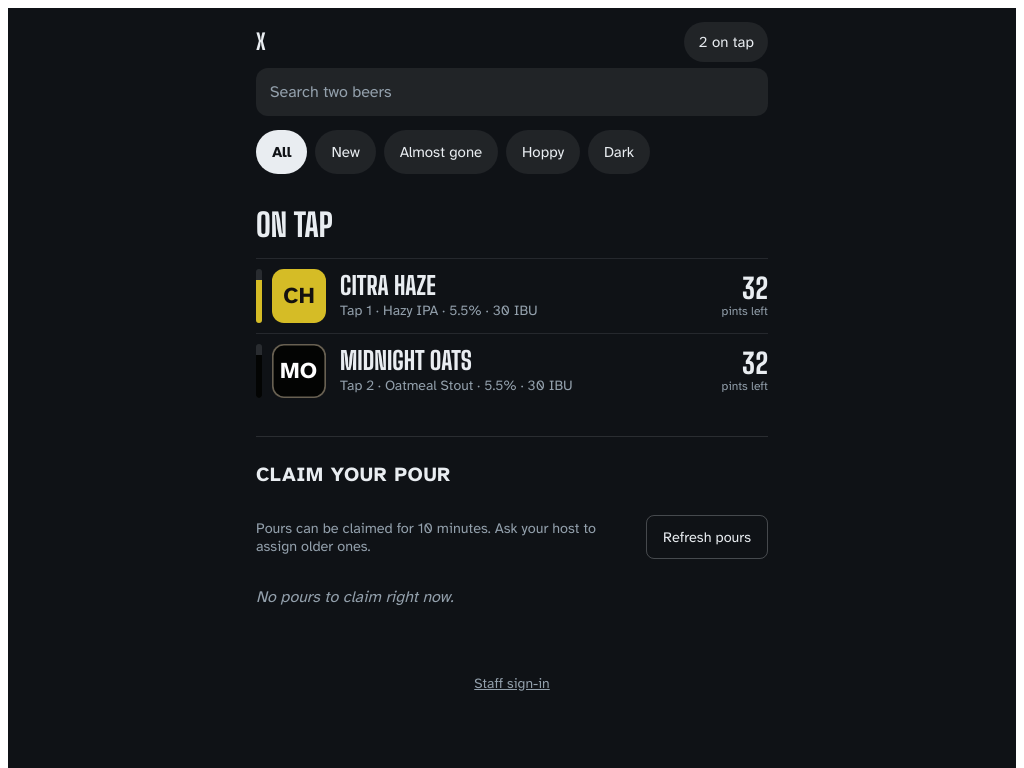
Test case: MenuPage › Kegwall V2 phone menu › a row opens an opaque beer sheet with the description; Escape closes it
The width and height of the screenshot is (1024, 768).
Click the button with test id "menu-tap" that starts with "Citra Haze". click: (299, 296)
box: [256,258,768,333]
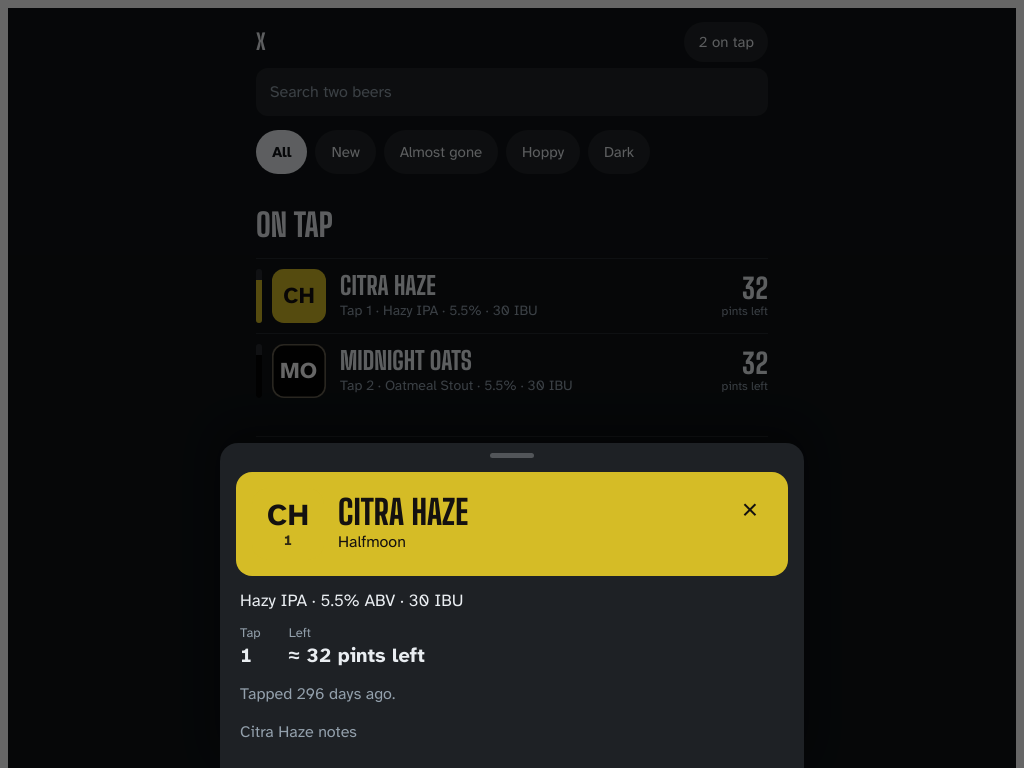
Check: the text with test id "beer-sheet-description" reads "Citra Haze notes", box [240,722,357,742]
Press Escape
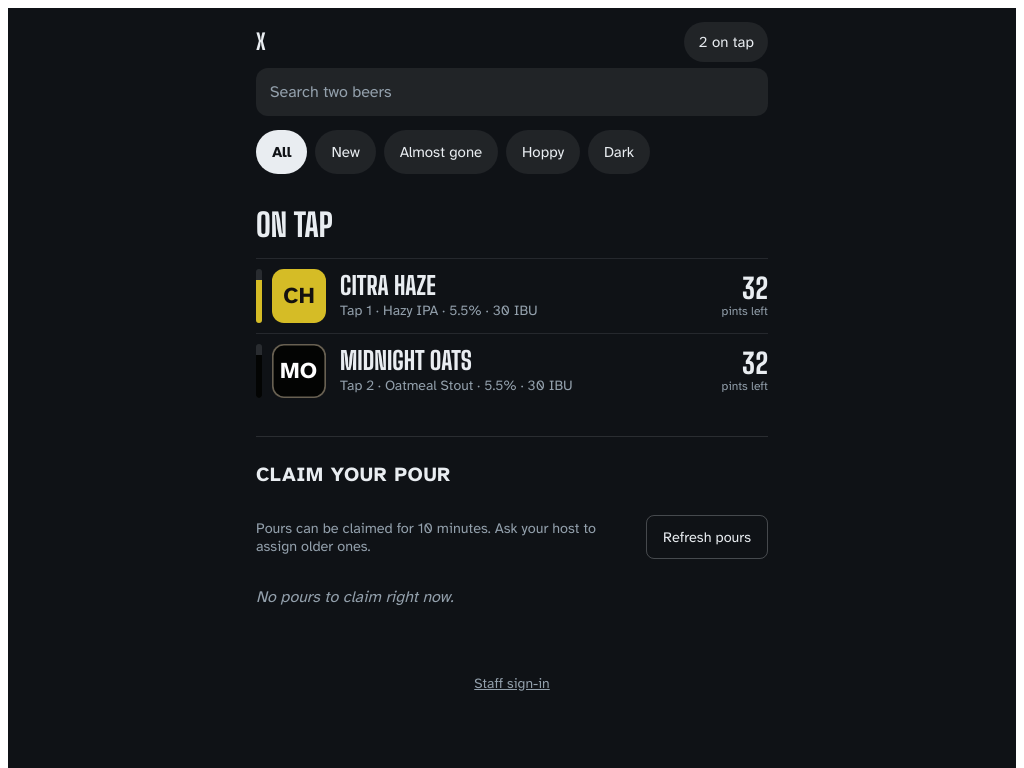
Check: the dialog with test id "beer-sheet" is gone
